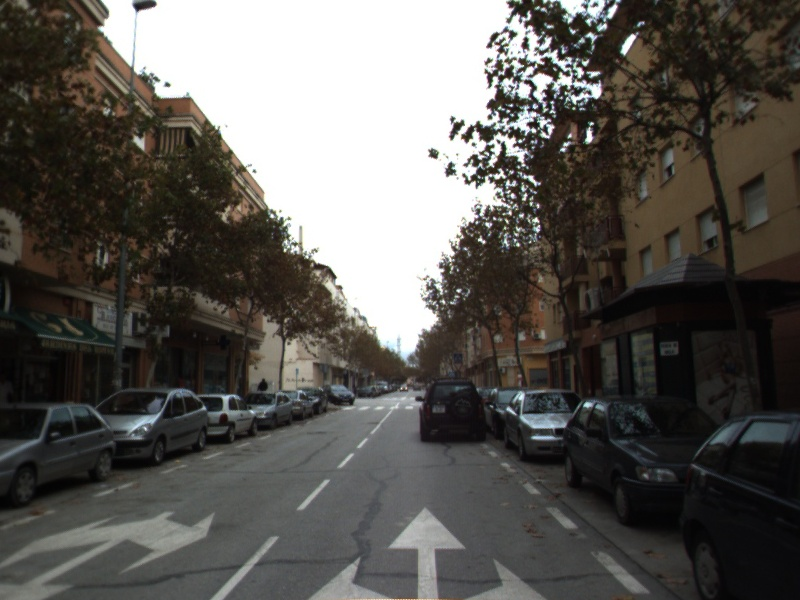STRAIGHT_LEFT_RIGHT: (300, 505, 553, 600)
